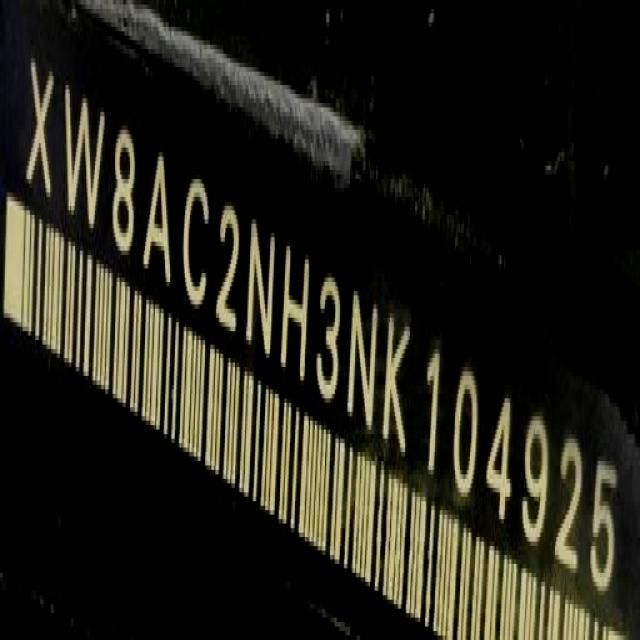0: (454, 354, 481, 507)
1: (486, 372, 514, 536), (422, 334, 442, 486)
2: (216, 196, 242, 350), (556, 432, 582, 577)
3: (316, 269, 343, 411)
5: (588, 447, 618, 602)
8: (112, 125, 138, 265)
9: (522, 402, 550, 562)
A: (146, 148, 175, 294)
C: (182, 174, 213, 322)
H: (281, 234, 312, 388)
K: (384, 317, 410, 459)
N: (348, 281, 382, 438), (247, 215, 279, 371)
W: (62, 77, 105, 244)
X: (24, 53, 55, 217)
